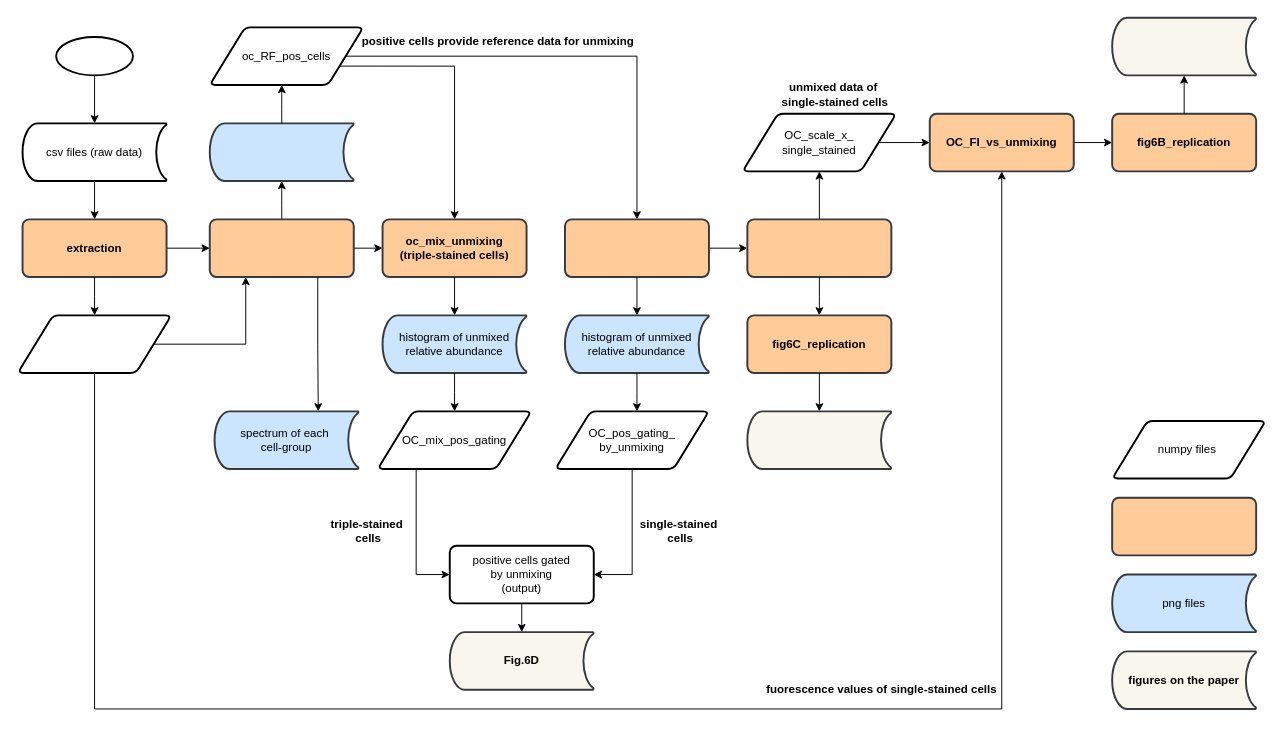
This 1283x733 diagram has some shape labels left out. The box of each missing label's shape, as (x1, y1, x2, y2) in pixels:
Fig.6B: (1111, 16, 1257, 76)
Fig.6C: (746, 410, 892, 469)
histogram of fluorescence intensity: (208, 122, 354, 181)
log_y_paper: (746, 218, 892, 277)
numpy files (raw data): (16, 314, 172, 373)
oc_histogram (single-stained cells): (208, 218, 354, 277)
oc_unmixing_histogram (single-stained cells): (564, 218, 709, 277)
py files: (1111, 496, 1257, 556)
start: (55, 36, 133, 76)
